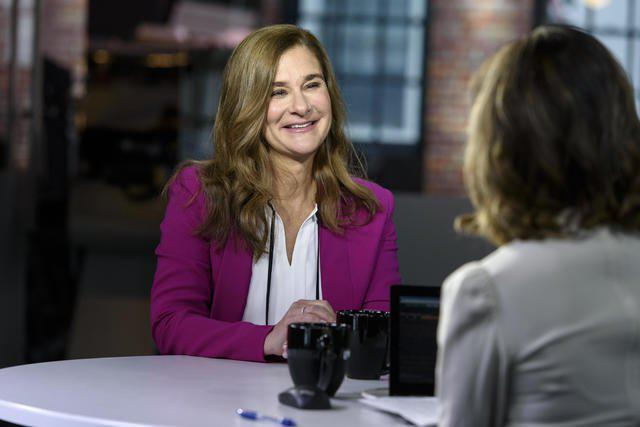Sober: (269, 49, 328, 143)
